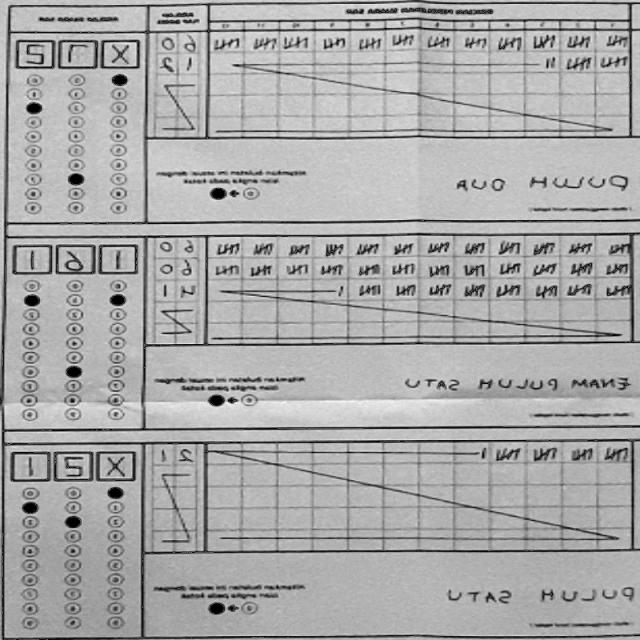Suara: (12, 31, 149, 72), (12, 237, 143, 276), (7, 447, 142, 483)
